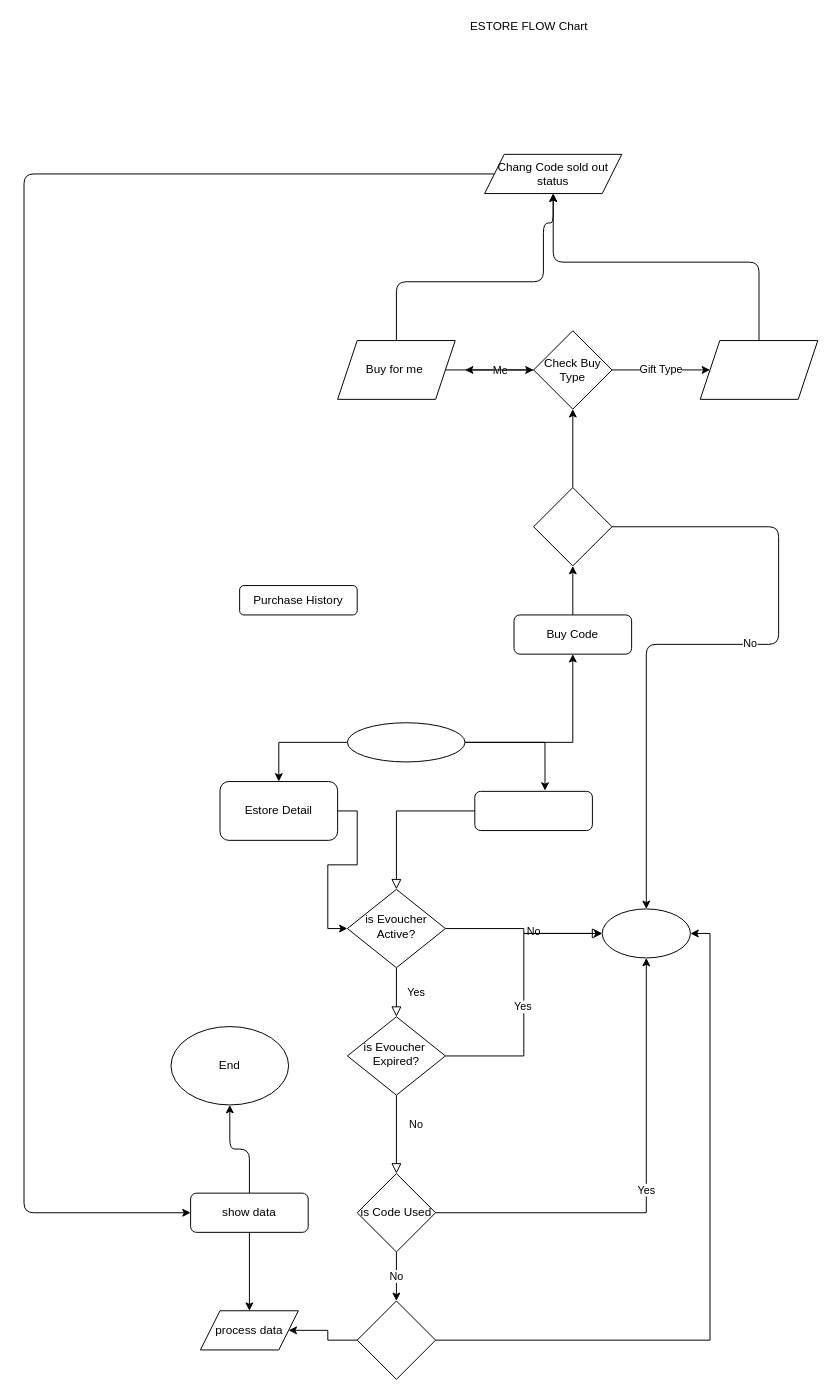
Image size: 835x1397. Some labels were removed from this diagram. The shapes that lost their labels are listed below. From the top down, each one's centre as x and y in pixels, then its label:
point 758,369: Gift for Other
point 572,526: is code found?
point 405,742: start
point 533,810: Estore List
point 645,933: show none
point 396,1339: is Code Sold out?
